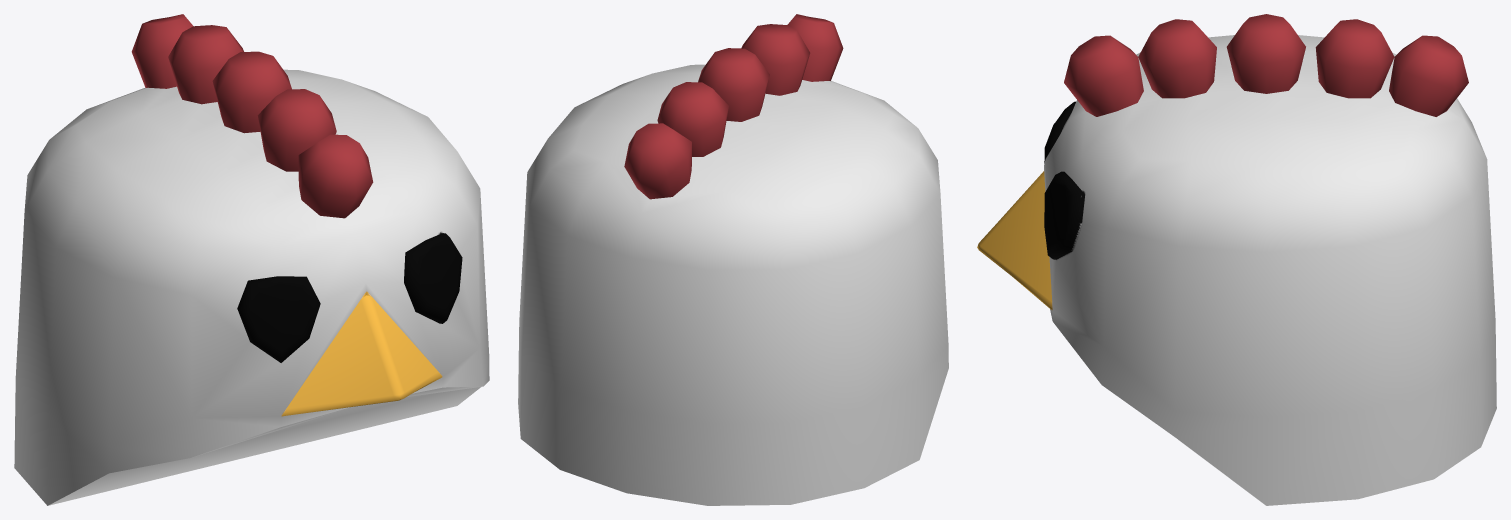
The model's file is ChickenHat.glb.
3 views of the same model, side by side, from view 1: azimuth 30°, elevation 25°; view 2: azimuth 150°, elevation 25°; view 3: azimuth 270°, elevation 25° (orthographic). The views are drawn at different scales.
Parts seen in each view (by area): view 1: ChickenHat; view 2: ChickenHat; view 3: ChickenHat.
Part boxes in pixels (x1,y1,x2,y2): ChickenHat: (14,14,489,505); ChickenHat: (518,14,948,505); ChickenHat: (977,14,1496,505).
Size of the model in its own units: 1.96 by 1.81 by 2.22.
Materials: 1 (1 with a texture image).
